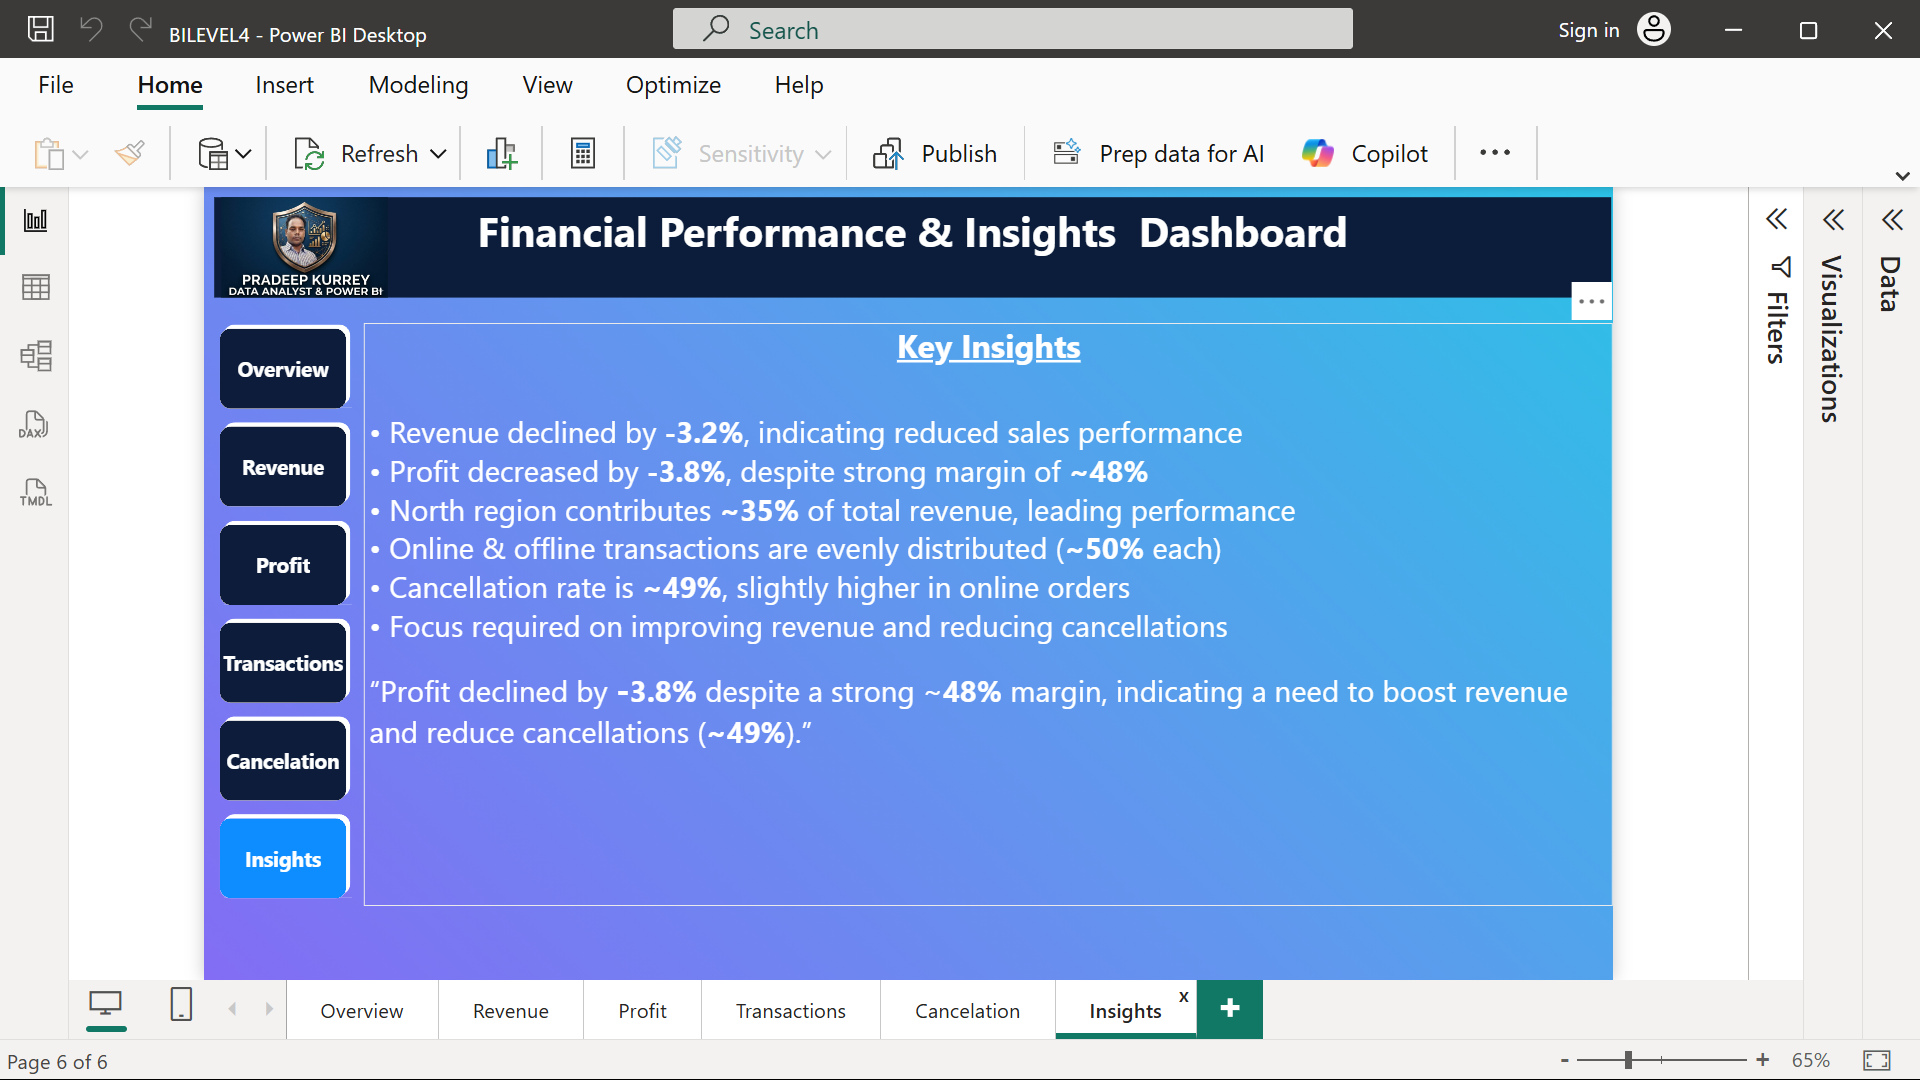

This screenshot's page, from the dashboard's own definition file:
{"tool":"powerbi","page":{"name":"Insights","canvas":[1280,720],"ordinal":5},"visuals":[{"type":"textbox","box":[8.9,8.9,1268.9,91.1],"z":0,"group":"g1"},{"type":"pageNavigator","box":[9.2,123.3,125.1,529.9],"z":0},{"type":"group","id":"g1","title":"Group 1","box":[8.9,8.9,1268.9,91.1],"z":1000},{"type":"image","box":[8.9,8.9,164.4,91.1],"z":1000,"group":"g1"},{"type":"textbox","title":"Key Insights","box":[144.7,123.3,1135.3,529.9],"z":2000}]}

Visuals, with their boxes on the page's 1280x720 design canvas (x1, y1, x2, y2). These are canvas units, not pixel positions in the 1920x1080 screenshot, which may show the page scaled, cropped or inside an application window:
textbox: (9, 9, 1278, 100)
pageNavigator: (9, 123, 134, 653)
"Group 1" group: (9, 9, 1278, 100)
image: (9, 9, 173, 100)
"Key Insights" textbox: (145, 123, 1280, 653)
